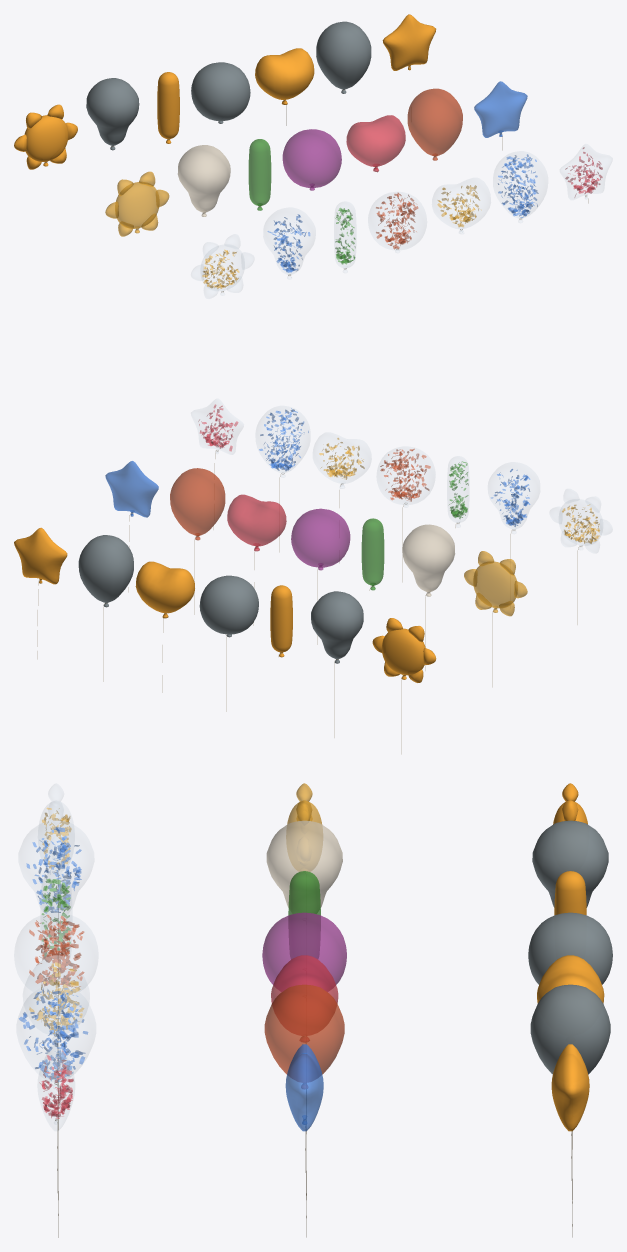
The model's file is air_balloons.glb.
3 views of the same model, one above another, from view 1: azimuth 30°, elevation 25°; view 2: azimuth 150°, elevation 25°; view 3: azimuth 270°, elevation 25° (orthographic). The views are drawn at different scales.
Parts seen in each view (by area): view 1: Object_14, Object_11, Object_10, Object_8, Object_17, Object_13, Object_5, Object_6, Object_12; view 2: Object_14, Object_11, Object_8, Object_10, Object_17, Object_13, Object_5, Object_6, Object_12, Object_7, Object_15; view 3: Object_14, Object_8, Object_15, Object_11, Object_10, Object_5, Object_6, Object_13, Object_17, Object_12, Object_7.
Boxes of the visible parts, x1,y1,x2,y2 form: Object_14: [86, 21, 371, 150]; Object_11: [14, 14, 436, 169]; Object_10: [267, 81, 538, 272]; Object_8: [376, 88, 462, 249]; Object_17: [105, 171, 481, 288]; Object_13: [346, 115, 602, 197]; Object_5: [282, 129, 341, 190]; Object_6: [177, 145, 230, 216]; Object_12: [248, 139, 355, 264]; Object_14: [78, 535, 363, 663]; Object_11: [14, 527, 436, 682]; Object_8: [170, 448, 430, 540]; Object_10: [105, 408, 530, 526]; Object_17: [319, 438, 599, 616]; Object_13: [198, 404, 286, 551]; Object_5: [291, 508, 350, 570]; Object_6: [402, 524, 455, 596]; Object_12: [361, 461, 468, 590]; Object_7: [37, 450, 582, 754]; Object_15: [215, 439, 603, 545]; Object_14: [528, 820, 612, 1074]; Object_8: [29, 915, 344, 1088]; Object_15: [24, 800, 88, 1124]; Object_11: [537, 783, 604, 1131]; Object_10: [19, 827, 323, 1131]; Object_5: [262, 912, 346, 991]; Object_6: [266, 820, 342, 913]; Object_13: [39, 955, 338, 1118]; Object_17: [29, 783, 322, 1033]; Object_12: [41, 871, 320, 958]; Object_7: [54, 870, 572, 1237].
Size of the model in its own units: 8.21 by 2.82 by 6.95.
